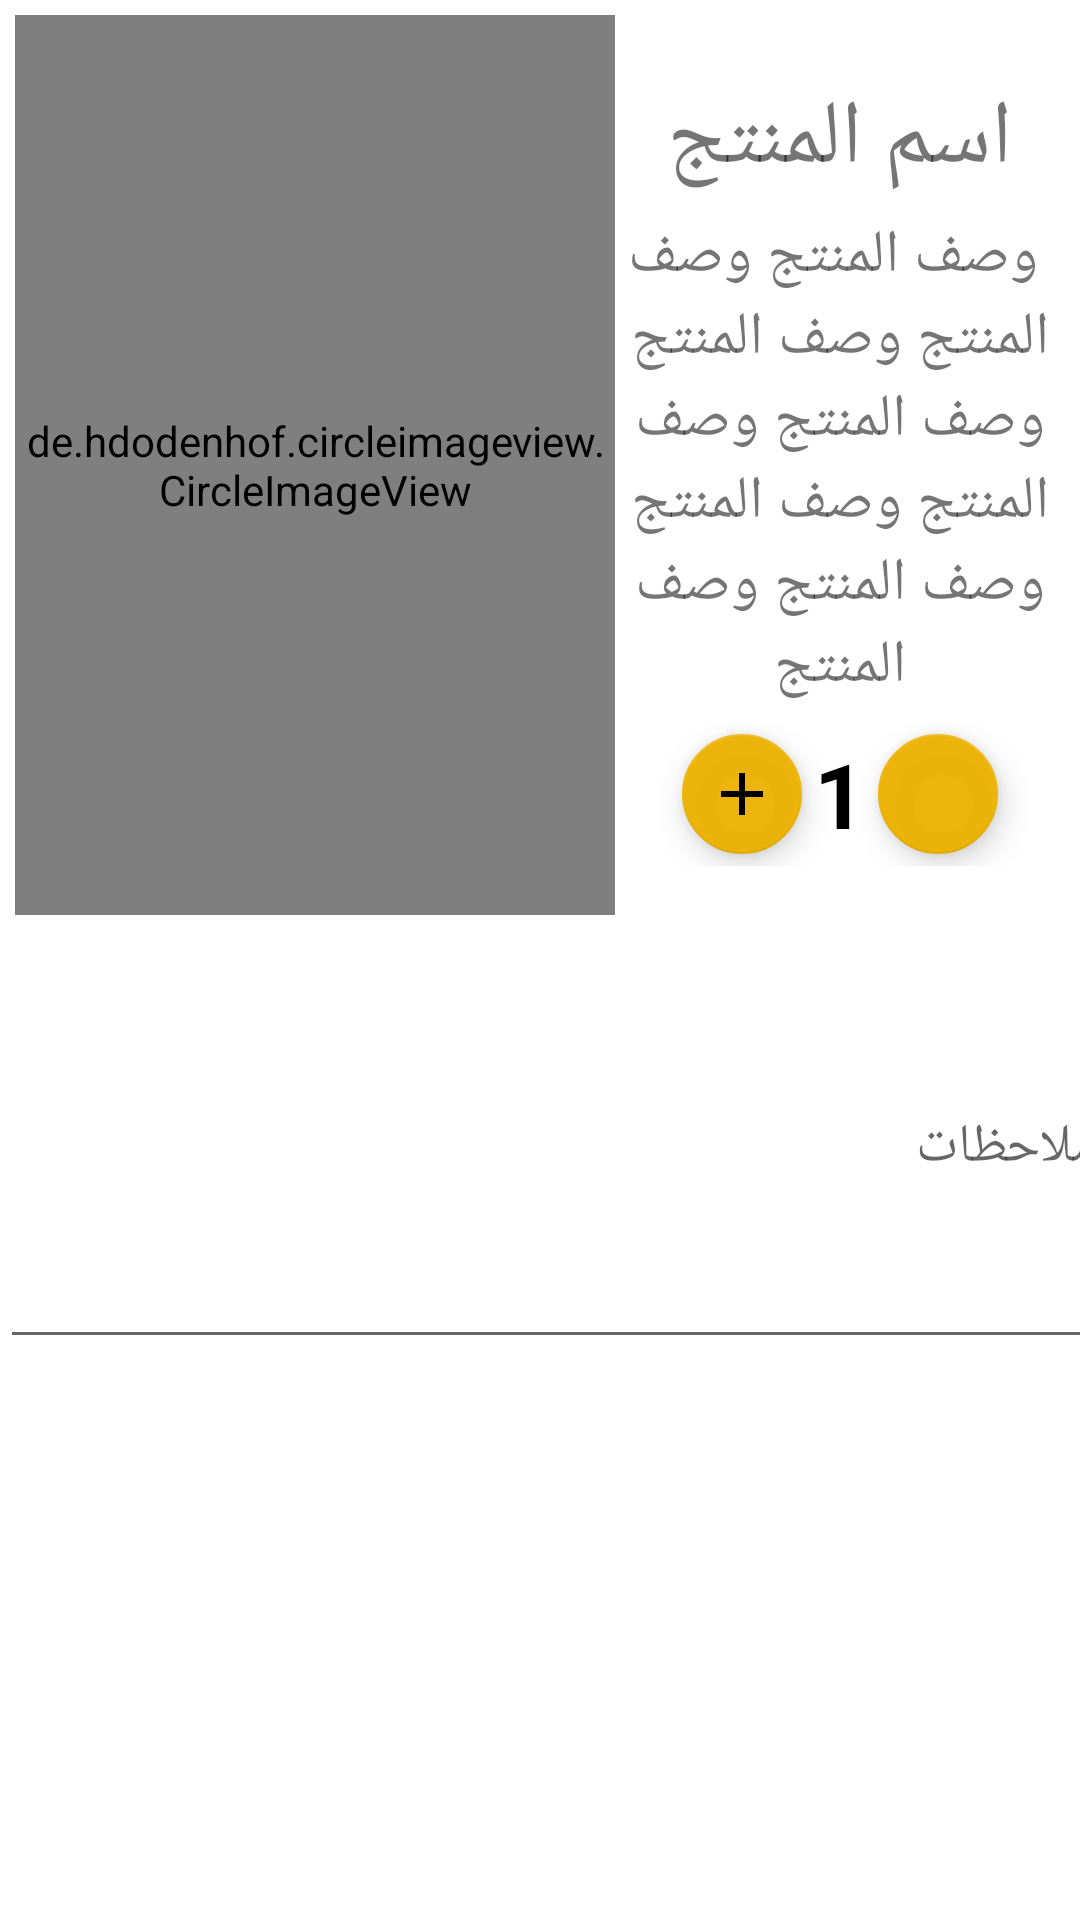

Icon click points for this 1080w x 1920h phone screenshot, format (x=x, y=y):
add: (x=742, y=796)
